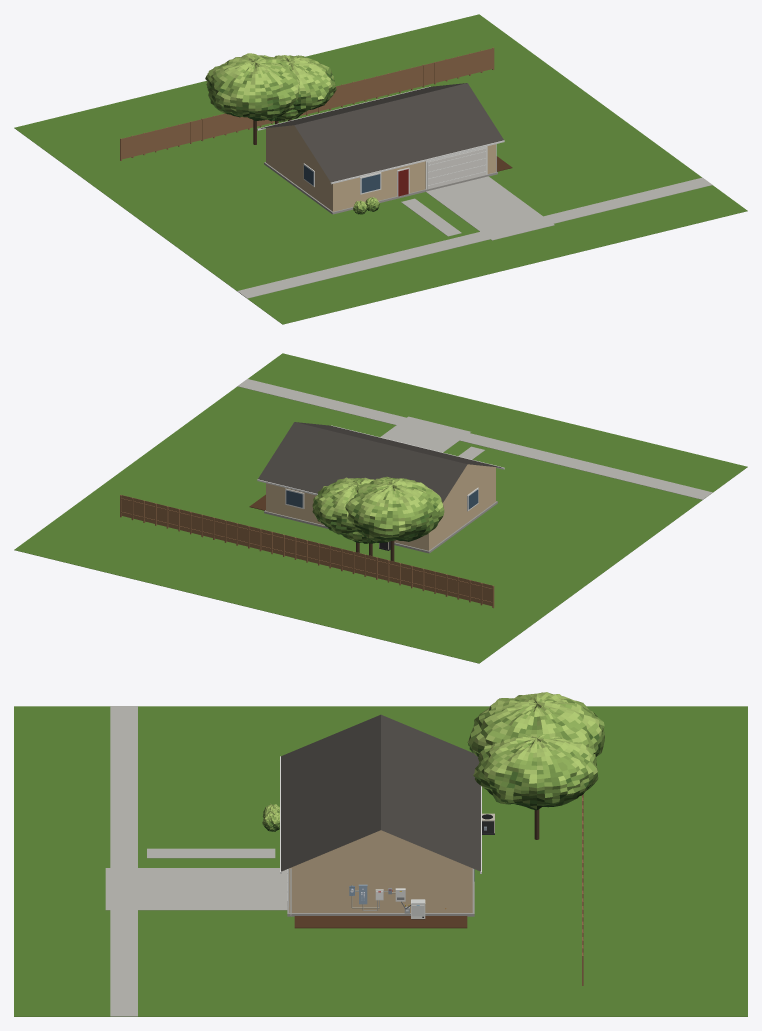
Rendered from home_09_post_install.obj.
The picture shows the model from 3 angles, top to bottom: view 1: azimuth 30°, elevation 25°; view 2: azimuth 150°, elevation 25°; view 3: azimuth 270°, elevation 25°; orthographic projection. The views are drawn at different scales.
Parts seen in each view (by area): view 1: yard, house, tree_3, tree_1; view 2: yard, house, tree_3, tree_1; view 3: yard, house, tree_1, tree_3, mulch_bed_side.
Boxes of the visible parts, <box> form: yard: <box>14,14,747,324</box>; house: <box>257,83,504,214</box>; tree_3: <box>205,53,299,144</box>; tree_1: <box>269,55,336,120</box>; yard: <box>14,353,747,663</box>; house: <box>257,422,504,553</box>; tree_3: <box>345,476,444,561</box>; tree_1: <box>312,477,374,552</box>; yard: <box>14,706,747,1016</box>; house: <box>280,714,481,916</box>; tree_1: <box>473,734,598,839</box>; tree_3: <box>467,692,604,756</box>; mulch_bed_side: <box>294,916,467,928</box>.
Bounding box in the file's own units: 40 × 6.88 × 40.
